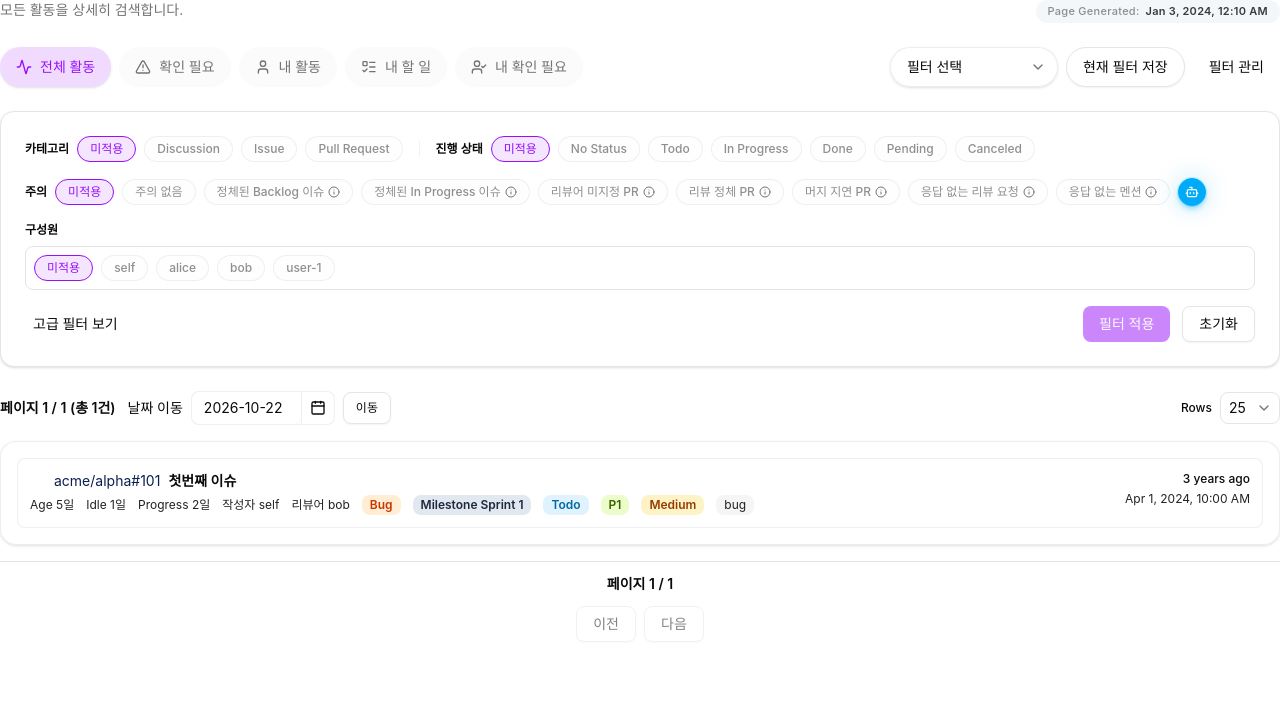
Test: ActivityView › keeps saved filters manager scrollable when many filters exist
Click the button "필터 관리" at [1236, 67], box [1193, 47, 1279, 87]
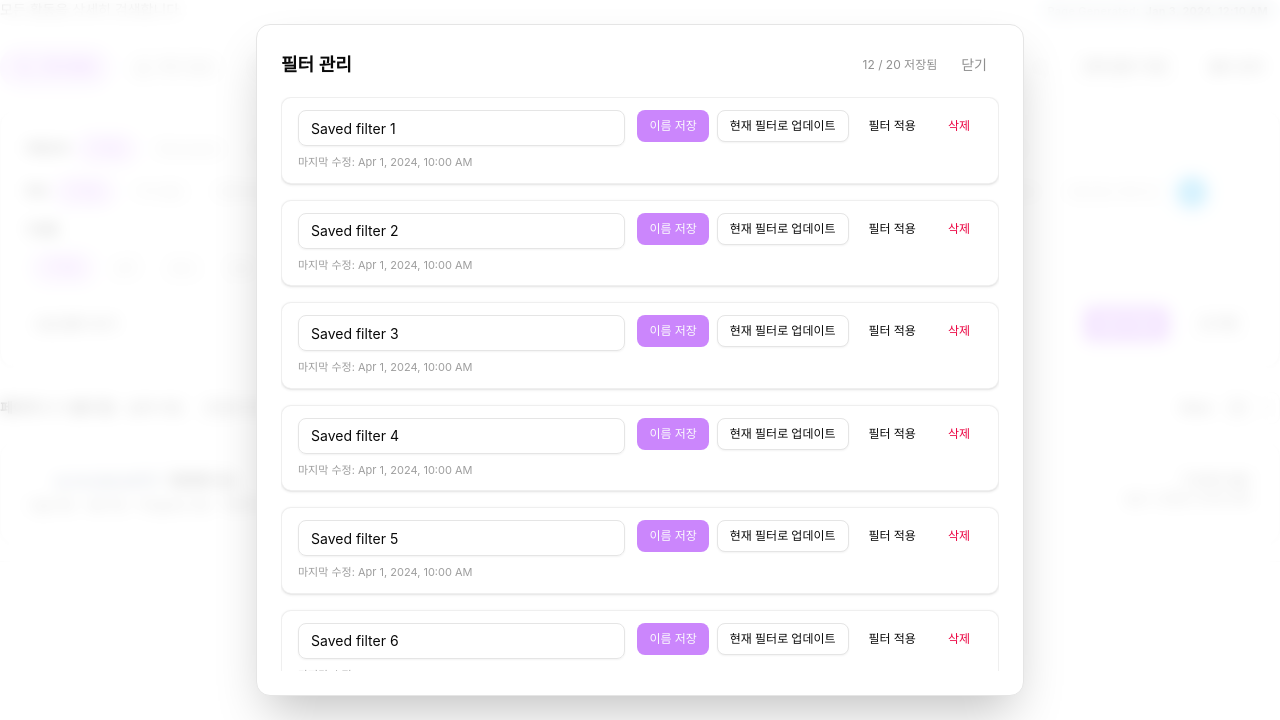
Now the element with class "overflow-y-auto" that starts with "마지막 수정:" is shown, box [281, 97, 999, 671]
